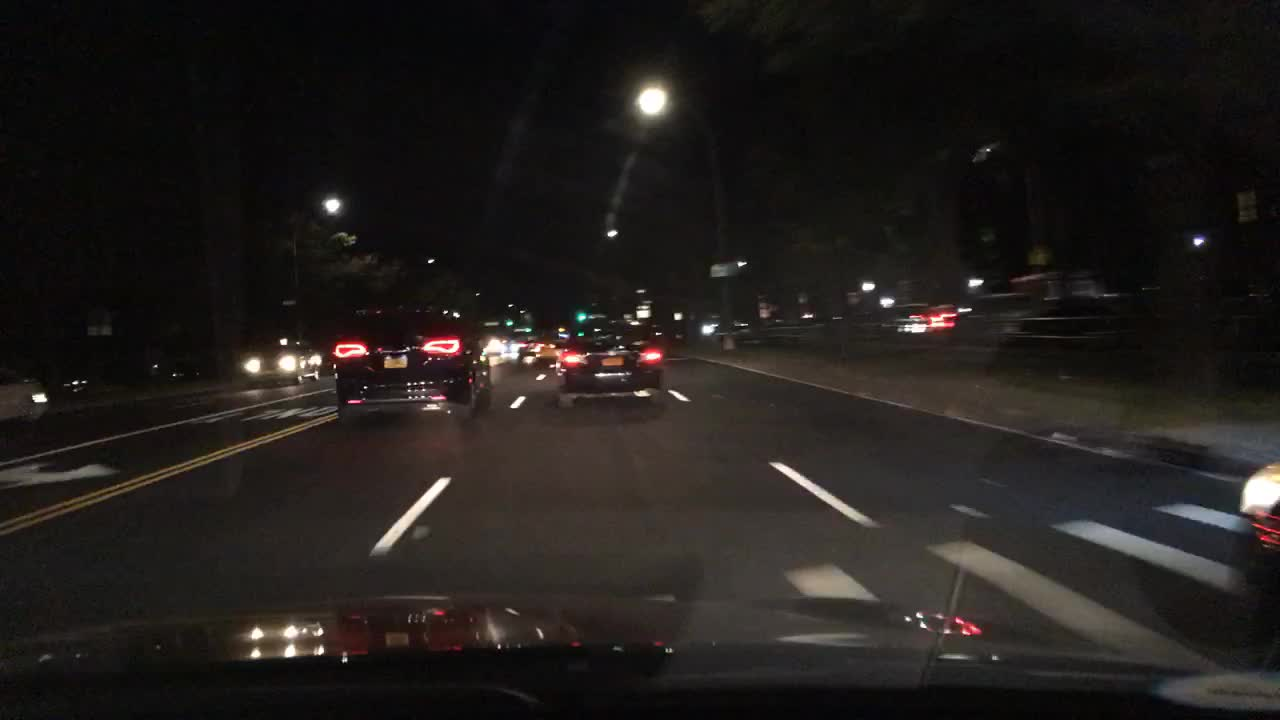car: (331, 309, 487, 405), (554, 323, 665, 402), (1238, 458, 1279, 580), (237, 344, 322, 384), (886, 301, 960, 338), (16, 368, 93, 403), (149, 361, 201, 379), (535, 339, 565, 364), (516, 338, 543, 360), (476, 337, 503, 355), (500, 338, 524, 353), (698, 319, 719, 336)
traffic light: (503, 317, 513, 327), (577, 311, 586, 322)
traffic sign: (87, 311, 112, 336), (278, 300, 297, 306)
